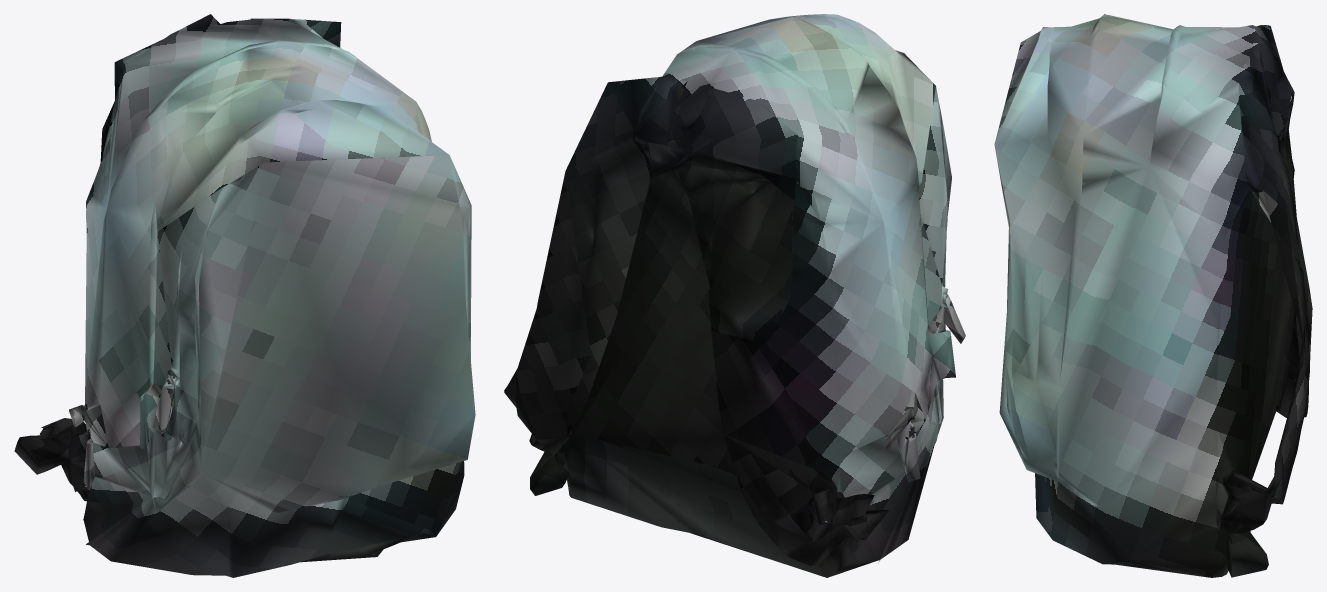
Rendered from Olive_Kids_Birdie_Sidekick_Backpack-low.glb.
The picture shows the model from 3 angles, left to right: view 1: azimuth 30°, elevation 25°; view 2: azimuth 150°, elevation 25°; view 3: azimuth 270°, elevation 25°; orthographic projection. The views are drawn at different scales.
Visible parts, largest first — view 1: Olive_Kids_Birdie_Sidekick_Backpack; view 2: Olive_Kids_Birdie_Sidekick_Backpack; view 3: Olive_Kids_Birdie_Sidekick_Backpack.
Part boxes in pixels (x1,y1,x2,y2): Olive_Kids_Birdie_Sidekick_Backpack: (14, 14, 475, 577); Olive_Kids_Birdie_Sidekick_Backpack: (504, 14, 965, 577); Olive_Kids_Birdie_Sidekick_Backpack: (994, 14, 1312, 577).
Size of the model in its own units: 0.3201 by 0.3823 by 0.2338.
1 material, 1 textured.
